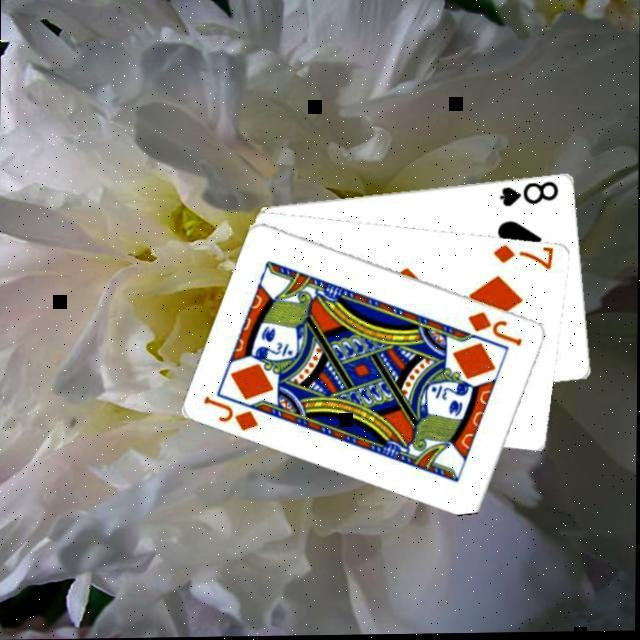7D: (488, 244, 554, 276)
8S: (494, 182, 560, 212)
JD: (463, 310, 525, 353), (199, 395, 261, 437)
